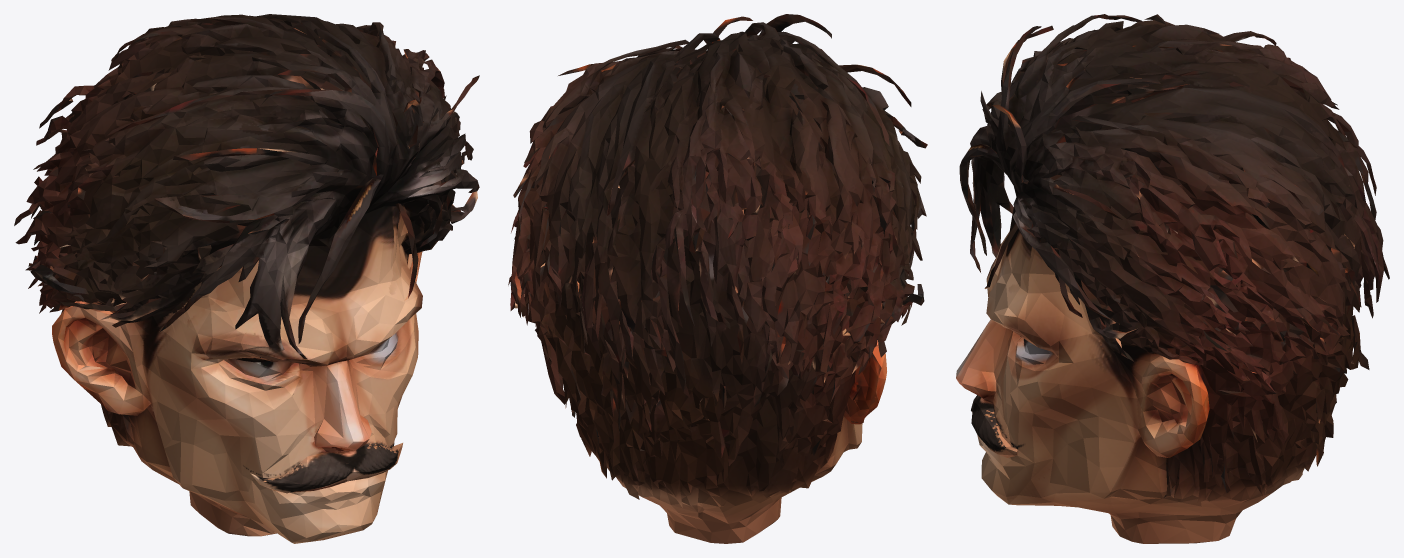
Rendered from side_tokubei_v2_repaired_atlas.glb.
3 views of the same model, side by side, from view 1: azimuth 30°, elevation 25°; view 2: azimuth 150°, elevation 25°; view 3: azimuth 270°, elevation 25° (orthographic). The views are drawn at different scales.
Visible parts, largest first — view 1: temp_mesh.ply; view 2: temp_mesh.ply; view 3: temp_mesh.ply.
Part boxes in pixels (x1,y1,x2,y2): temp_mesh.ply: [14, 14, 479, 543]; temp_mesh.ply: [508, 14, 927, 543]; temp_mesh.ply: [956, 14, 1389, 543].
Size of the model in its own units: 1.77 by 1.98 by 1.58.
Materials: 1 (1 with a texture image).
